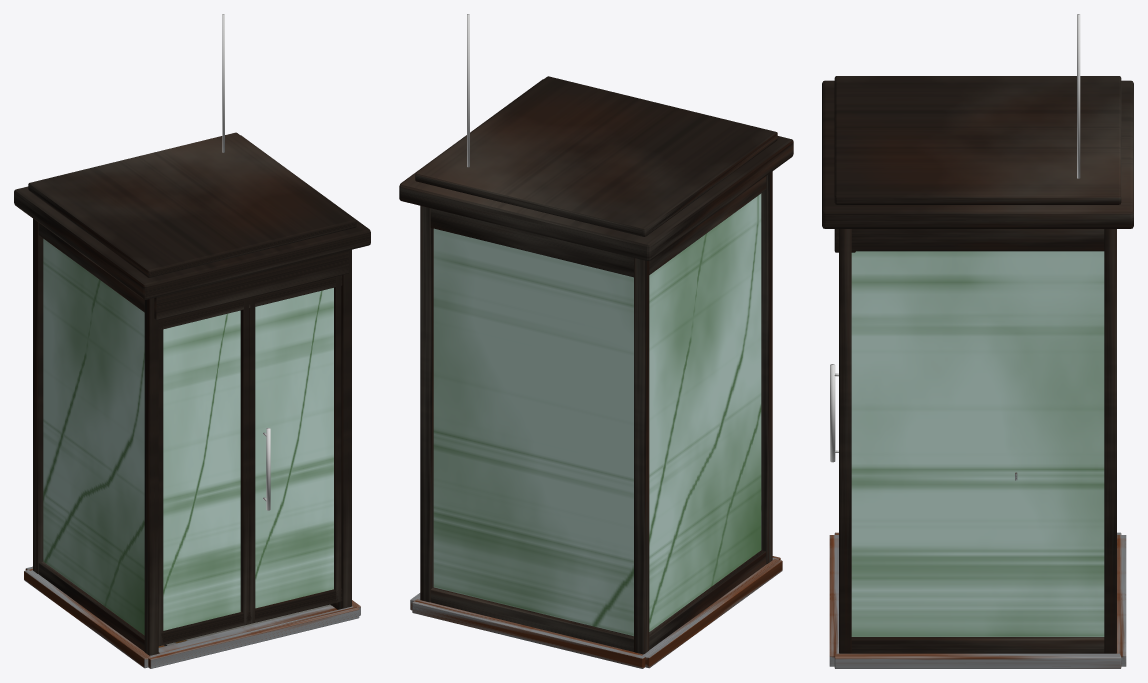
The model's file is PhoneBooth.fbx.
3 views of the same model, side by side, from view 1: azimuth 30°, elevation 25°; view 2: azimuth 150°, elevation 25°; view 3: azimuth 270°, elevation 25° (orthographic). The views are drawn at different scales.
Visible parts, largest first — view 1: Door, Booth_Roof, Booth_Glass, Booth_Frame; view 2: Booth_Glass, Booth_Roof, Booth_Frame; view 3: Booth_Glass, Booth_Roof, Booth_Frame, Door.
Part boxes in pixels (box(x1,y1,x2,y2)): Door: box(158, 275, 342, 645); Booth_Roof: box(14, 14, 370, 299); Booth_Glass: box(43, 239, 144, 635); Booth_Frame: box(24, 219, 360, 668); Booth_Glass: box(433, 193, 761, 636); Booth_Roof: box(399, 14, 793, 260); Booth_Frame: box(410, 171, 782, 668); Booth_Glass: box(851, 251, 1104, 636); Booth_Roof: box(822, 14, 1133, 228); Booth_Frame: box(829, 229, 1126, 668); Door: box(830, 364, 838, 462).
Bounding box in the file's own units: 1.47 × 3.3 × 1.47.
22 materials, 10 textured.
